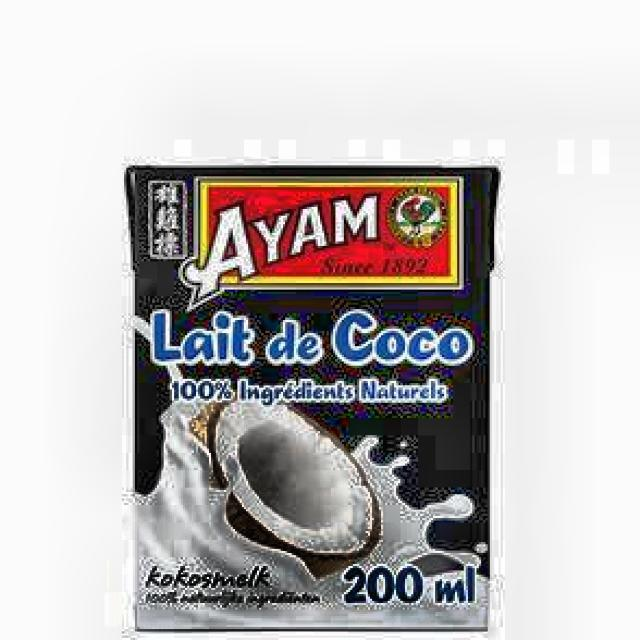cardboard: (124, 164, 499, 632)
